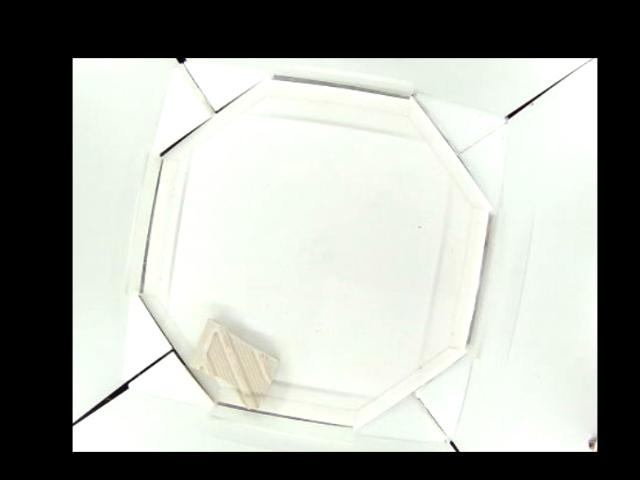China: (189, 318, 274, 410)
